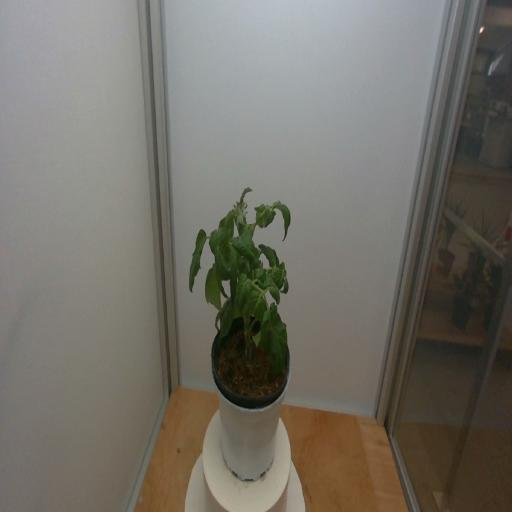Tomato-Leaves-Cupboard-: (261, 303, 289, 378), (182, 227, 208, 301), (215, 298, 237, 352), (273, 194, 291, 246), (205, 260, 222, 312), (234, 225, 256, 262), (258, 238, 280, 269), (207, 221, 229, 251), (262, 272, 282, 305), (250, 287, 266, 322), (228, 241, 238, 294), (216, 244, 230, 280), (236, 176, 252, 205), (236, 270, 248, 306), (218, 216, 234, 241), (255, 202, 271, 226), (280, 258, 289, 295), (225, 207, 234, 230), (254, 269, 266, 285)
